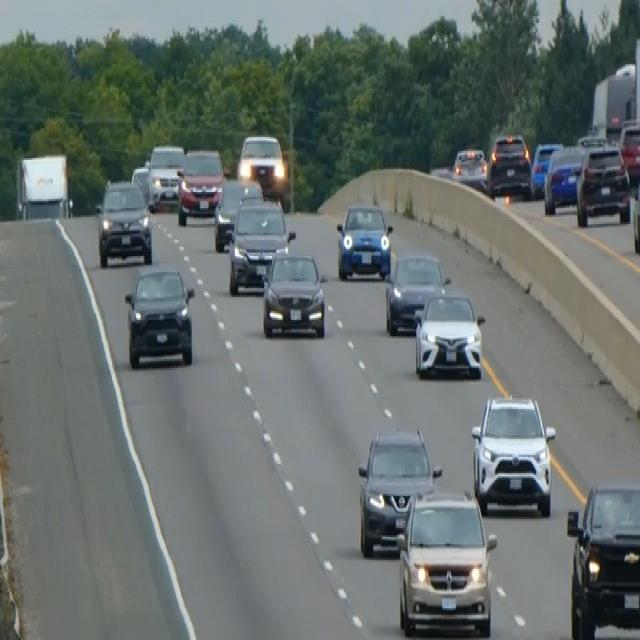car: (566, 480, 639, 638), (357, 425, 442, 556), (470, 391, 556, 517), (123, 263, 195, 368), (227, 198, 295, 294), (413, 290, 485, 378), (261, 247, 326, 338), (384, 249, 449, 334), (95, 176, 153, 267), (575, 140, 630, 226), (336, 201, 393, 281), (176, 146, 225, 226), (213, 176, 263, 251), (237, 132, 286, 199), (543, 142, 586, 214), (487, 132, 531, 198), (147, 142, 185, 208), (530, 139, 563, 197), (452, 144, 488, 192), (618, 117, 639, 183), (130, 164, 151, 202), (631, 164, 639, 254), (576, 132, 607, 150)
lorry: (587, 37, 639, 146), (14, 150, 72, 220)
minivan: (394, 486, 498, 638)
